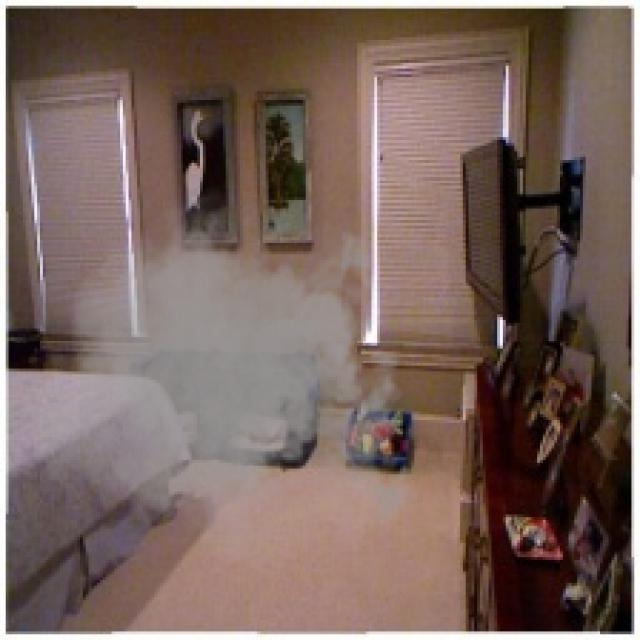Smoke: (28, 171, 423, 583)
